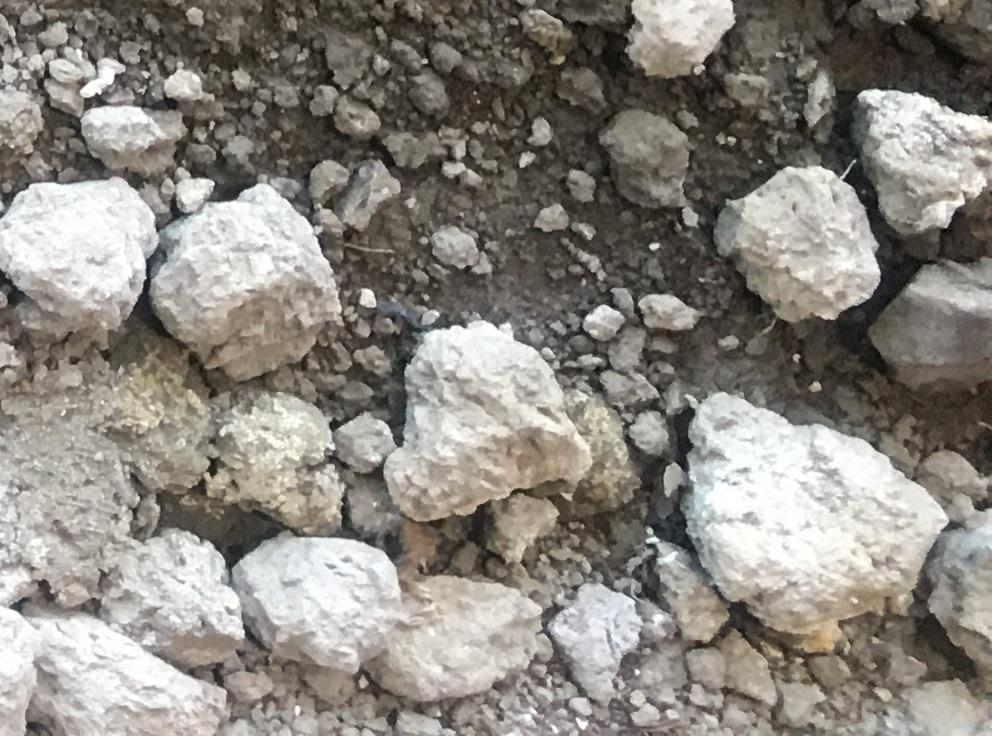block: (685, 387, 940, 630), (389, 324, 585, 517), (153, 190, 331, 378), (8, 593, 223, 736), (718, 165, 875, 334), (1, 186, 150, 344), (368, 574, 540, 700), (229, 532, 383, 669), (202, 379, 341, 529), (858, 84, 988, 239), (108, 540, 250, 662), (880, 255, 992, 395), (620, 1, 744, 89)
